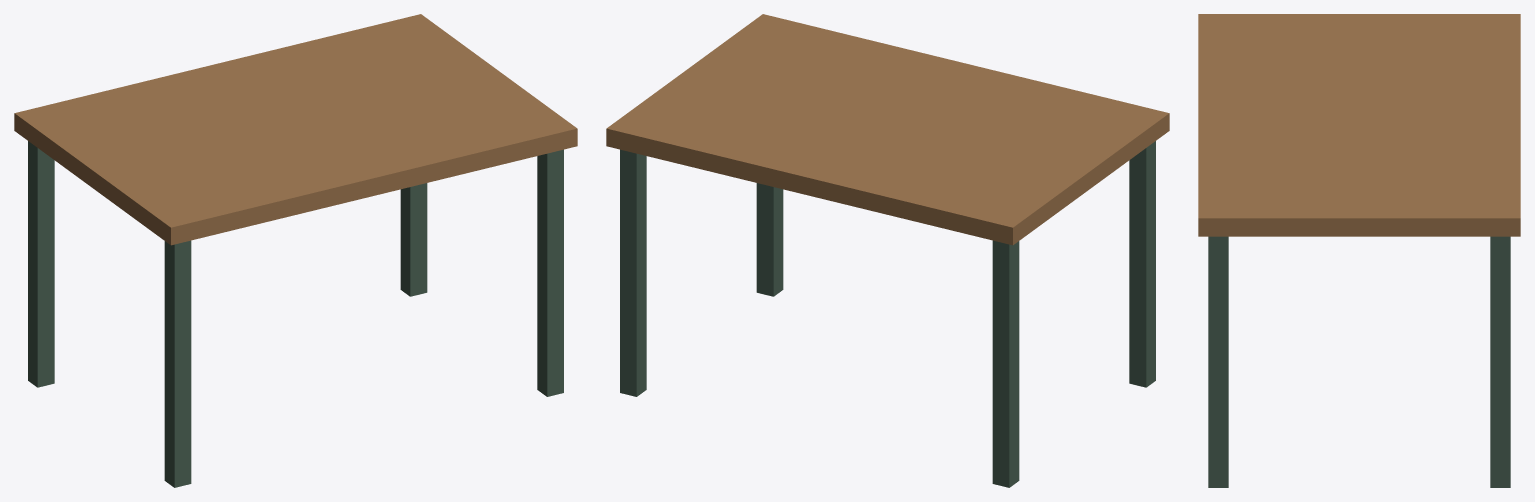
3 renders of one model, left to right at view 1: azimuth 30°, elevation 25°; view 2: azimuth 150°, elevation 25°; view 3: azimuth 270°, elevation 25°, orthographic. The views are drawn at different scales.
Visible parts, largest first — view 1: top, leg-0-1, leg-1-1, leg-0-0, leg-1-0; view 2: top, leg-0-0, leg-1-0, leg-0-1, leg-1-1; view 3: top, leg-1-0, leg-1-1.
Boxes of the visible parts, x1,y1,x2,y2 form: top: [14, 14, 577, 245]; leg-0-1: [164, 240, 191, 487]; leg-1-1: [537, 149, 563, 396]; leg-0-0: [28, 141, 54, 387]; leg-1-0: [400, 183, 427, 296]; top: [606, 14, 1169, 245]; leg-0-0: [992, 240, 1019, 487]; leg-1-0: [620, 149, 646, 396]; leg-0-1: [1129, 141, 1155, 387]; leg-1-1: [756, 183, 783, 296]; top: [1198, 14, 1520, 236]; leg-1-0: [1490, 236, 1510, 487]; leg-1-1: [1208, 236, 1228, 487].
Bounding box in the file's own units: 1.2 × 0.75 × 0.8.
